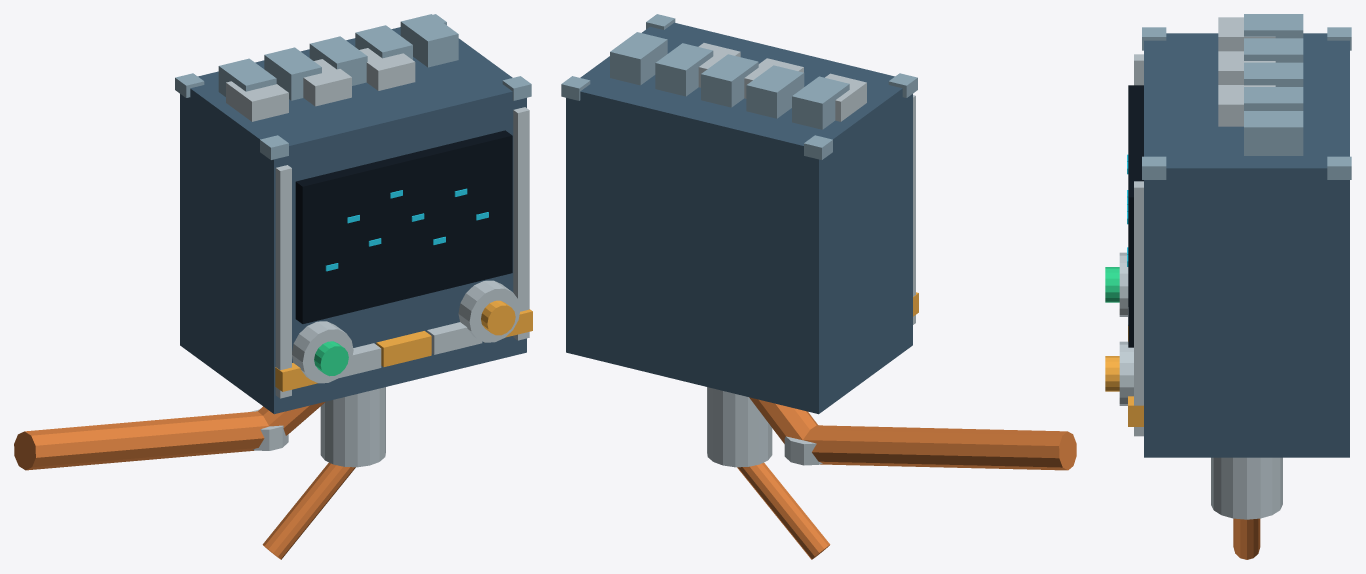
File: 10_L74_SoftBakeTemperatureSensor.fbx
3 renders of one model, left to right at view 1: azimuth 30°, elevation 25°; view 2: azimuth 150°, elevation 25°; view 3: azimuth 270°, elevation 25°, orthographic. The views are drawn at different scales.
Visible parts, largest first — view 1: SoftBakeTemperatureSensor; view 2: SoftBakeTemperatureSensor; view 3: SoftBakeTemperatureSensor.
Boxes of the visible parts, x1,y1,x2,y2 form: SoftBakeTemperatureSensor: [14, 14, 532, 559]; SoftBakeTemperatureSensor: [561, 14, 1076, 559]; SoftBakeTemperatureSensor: [1105, 14, 1351, 559].
Bounding box in the file's own units: 81.6 × 81.38 × 34.46.
